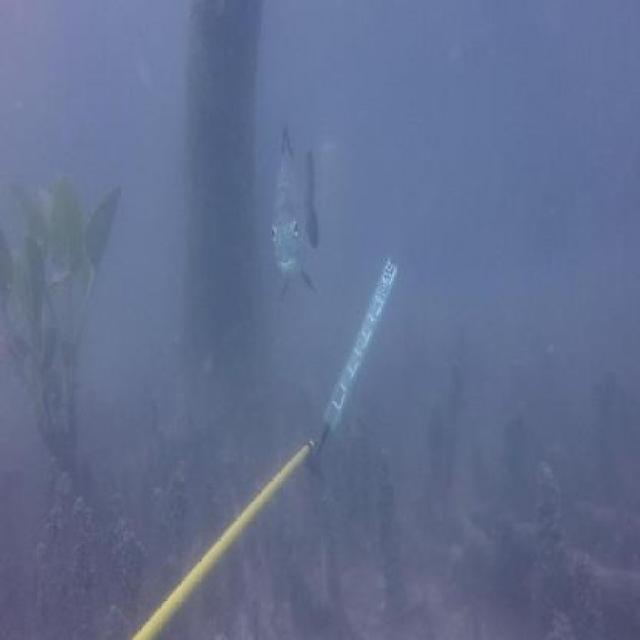acanthopagrus_palmaris: (269, 126, 329, 308)
